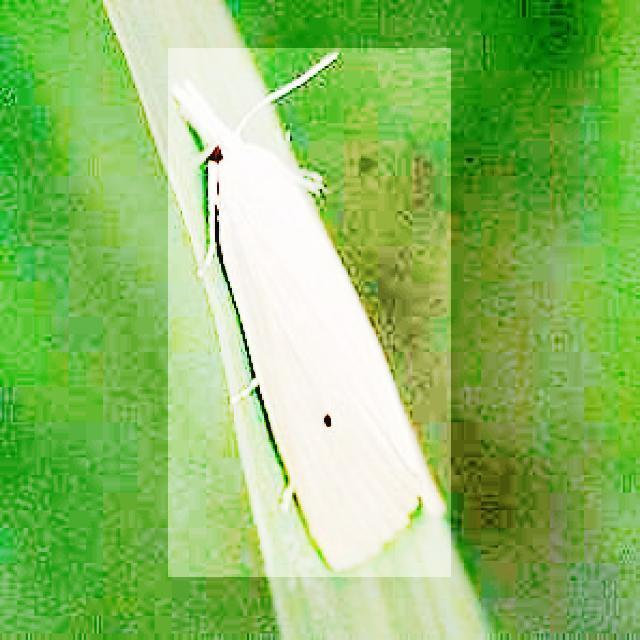stem-borer: (168, 48, 451, 577)
